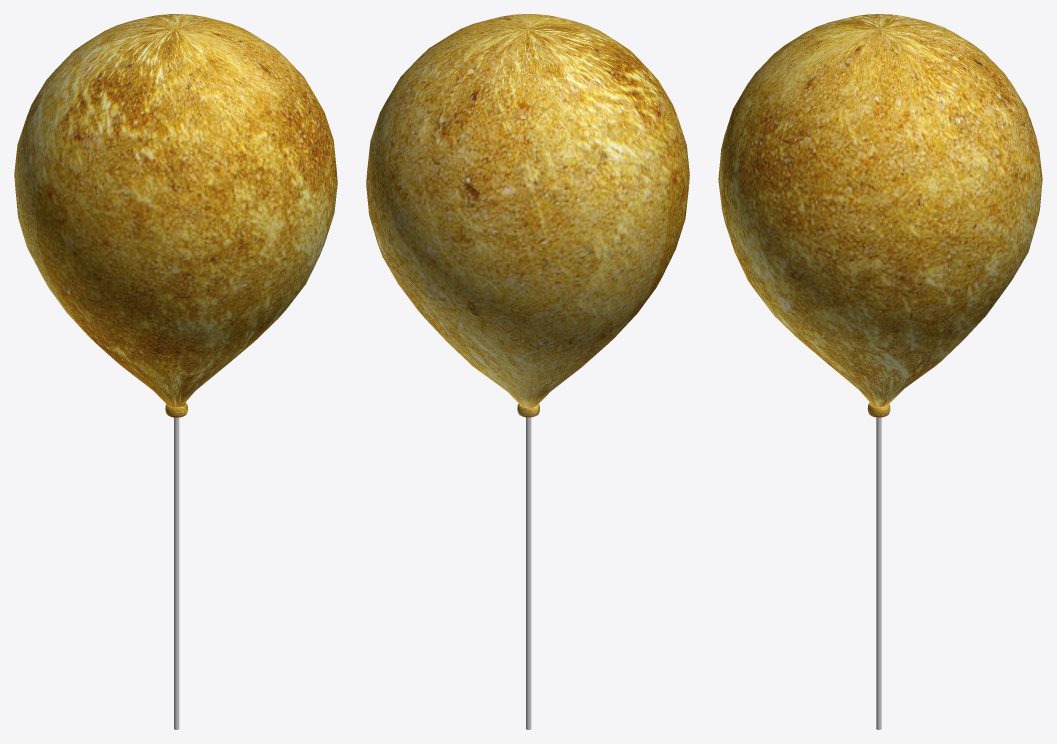
Rendered from balloon_yellow_3.glb.
3 renders of one model, left to right at view 1: azimuth 30°, elevation 25°; view 2: azimuth 150°, elevation 25°; view 3: azimuth 270°, elevation 25°, orthographic.
Parts seen in each view (by area): view 1: Sphere.001, Cylinder.001; view 2: Sphere.001, Cylinder.001; view 3: Sphere.001, Cylinder.001.
Boxes of the visible parts, <box> form: Sphere.001: <box>14,14,337,407</box>; Cylinder.001: <box>174,417,179,729</box>; Sphere.001: <box>366,14,689,407</box>; Cylinder.001: <box>526,417,531,729</box>; Sphere.001: <box>718,14,1042,407</box>; Cylinder.001: <box>876,417,881,729</box>.
Size of the model in its own units: 2 by 4.76 by 2.
2 materials, 2 textured.
